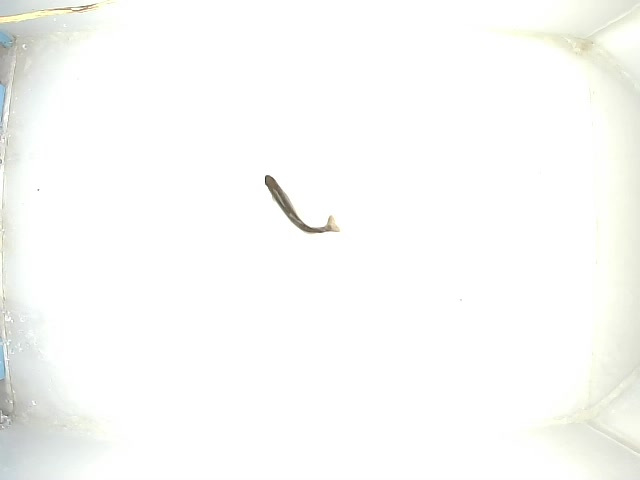fish: (264, 174, 341, 235)
